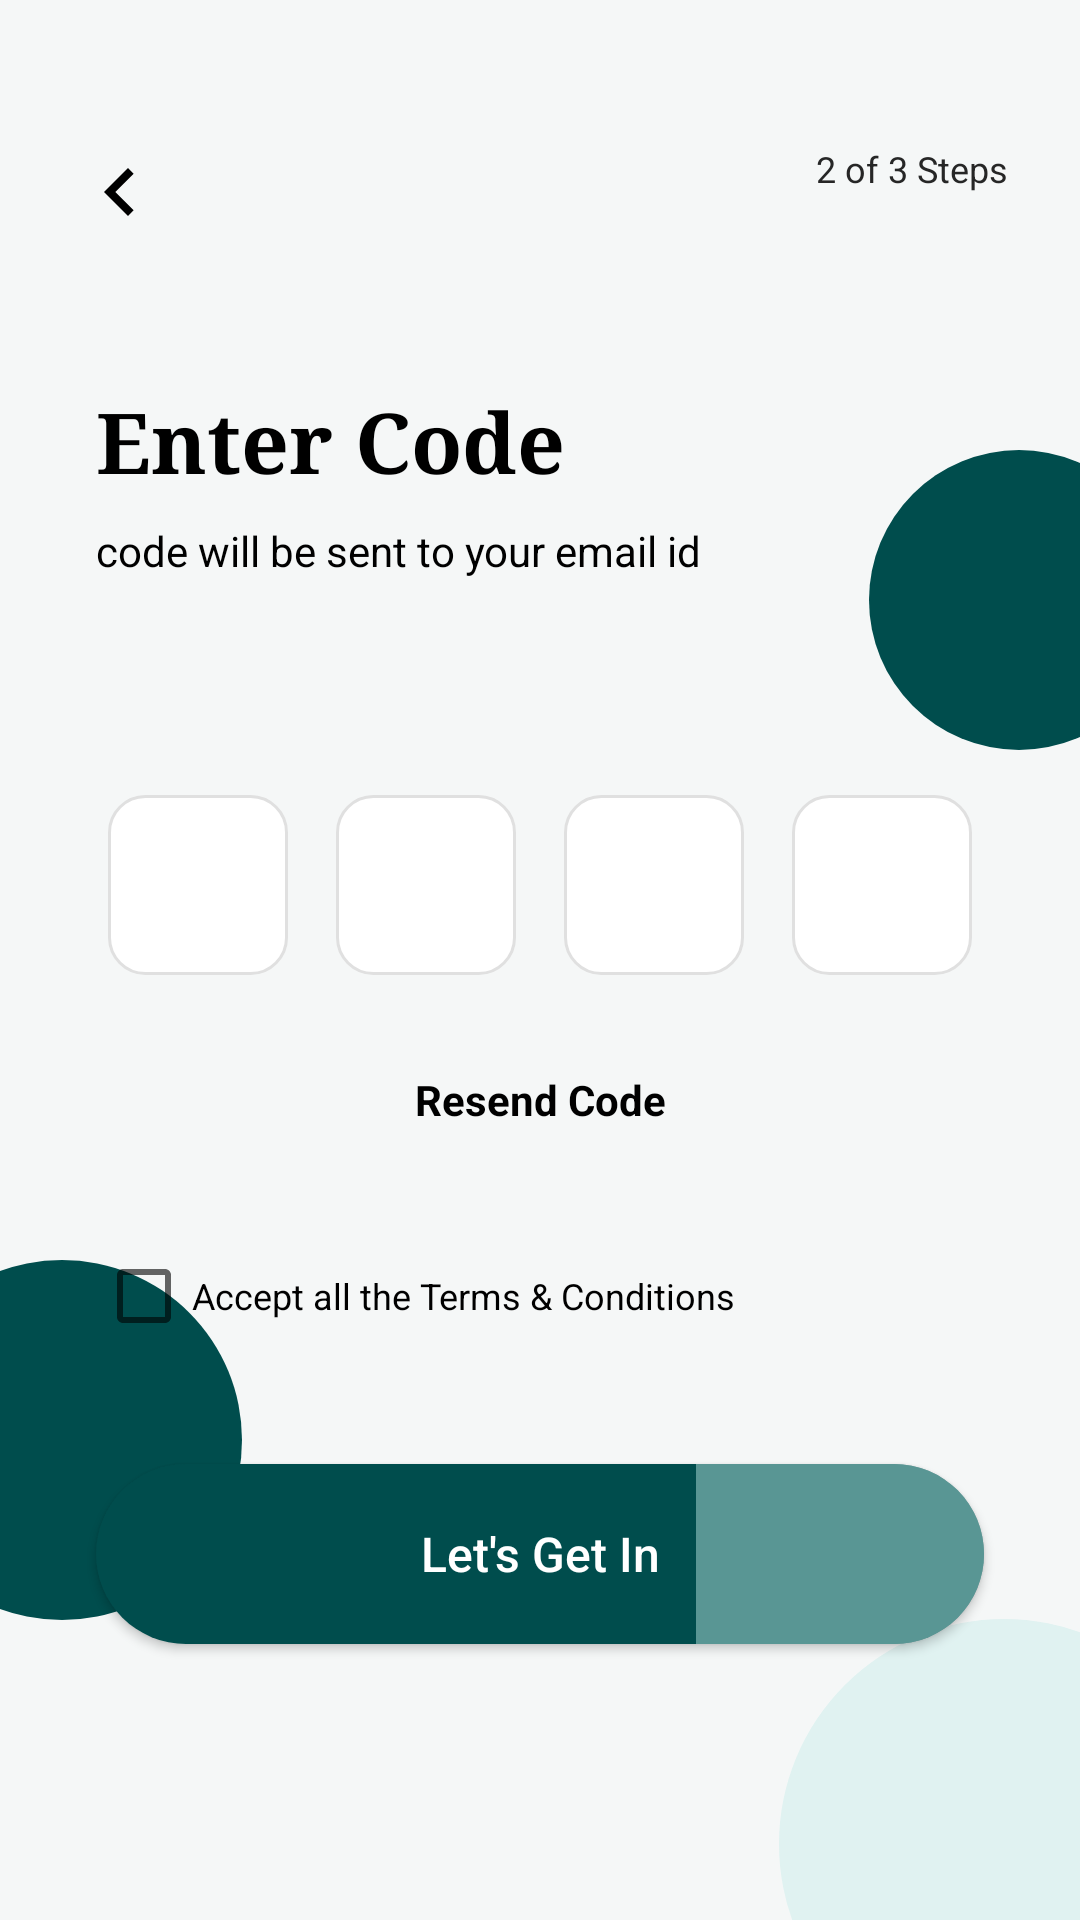

Icons on this 1080×1920 Android screen, each with its box as (x1, y1, x2, y2):
arrow back: (104, 168, 134, 216)
